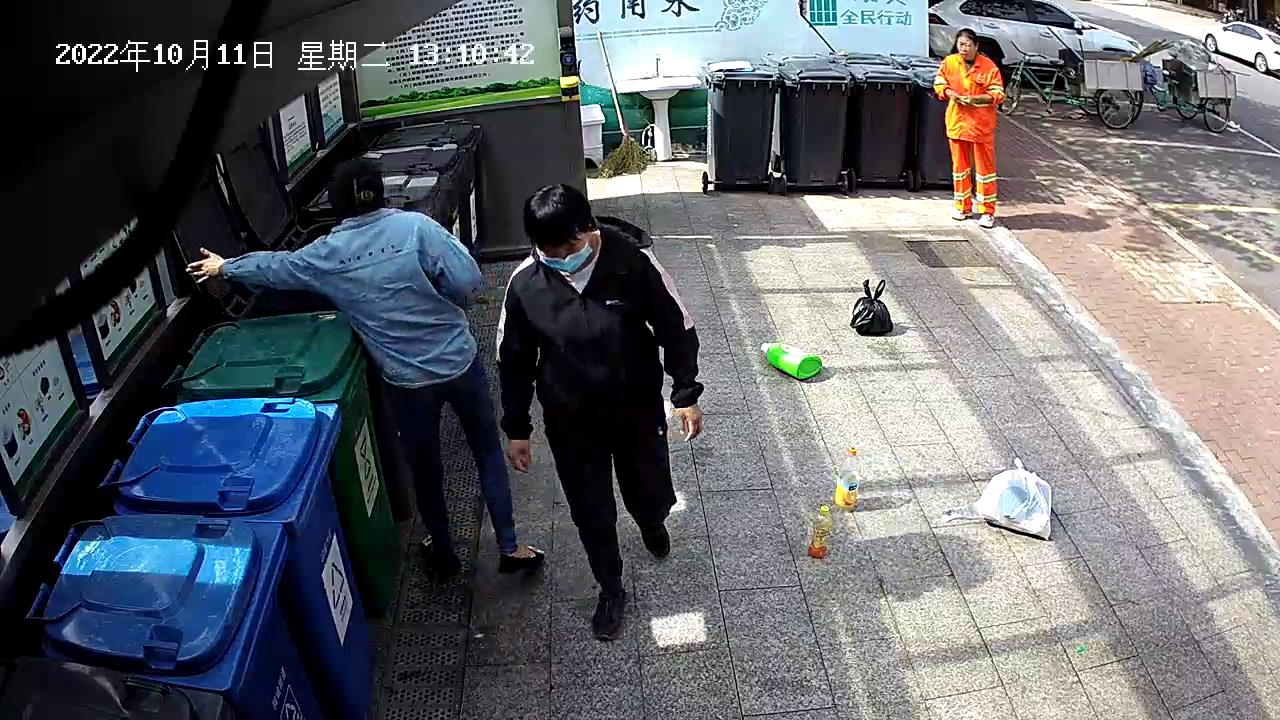garbage-bag: (972, 454, 1054, 541), (849, 275, 896, 339)
person: (495, 182, 708, 643)
suliaozhipin: (759, 338, 825, 383), (833, 444, 862, 513), (805, 502, 835, 558)
worker: (181, 155, 548, 576), (931, 25, 1006, 229)
